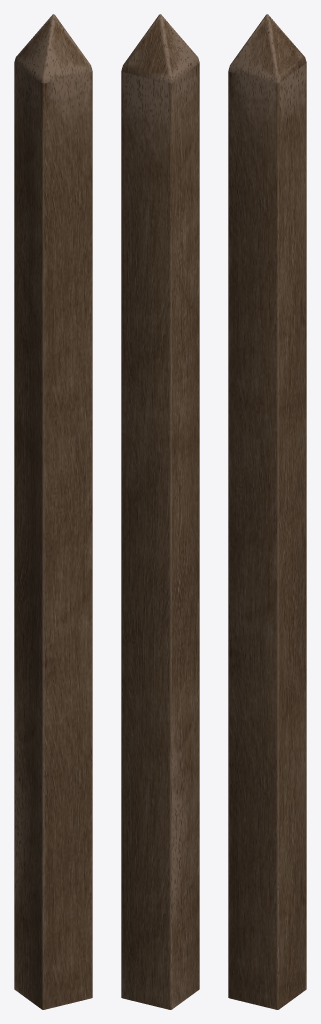
File: Fence_Post.fbx
3 renders of one model, left to right at view 1: azimuth 30°, elevation 25°; view 2: azimuth 150°, elevation 25°; view 3: azimuth 330°, elevation 25°, orthographic.
Visible parts, largest first — view 1: Fence_Post; view 2: Fence_Post; view 3: Fence_Post.
Part boxes in pixels (x1,y1,x2,y2): Fence_Post: (14,14,92,1009); Fence_Post: (121,14,199,1009); Fence_Post: (228,14,306,1009).
Size of the model in its own units: 0.1451 by 2.69 by 0.1451.
